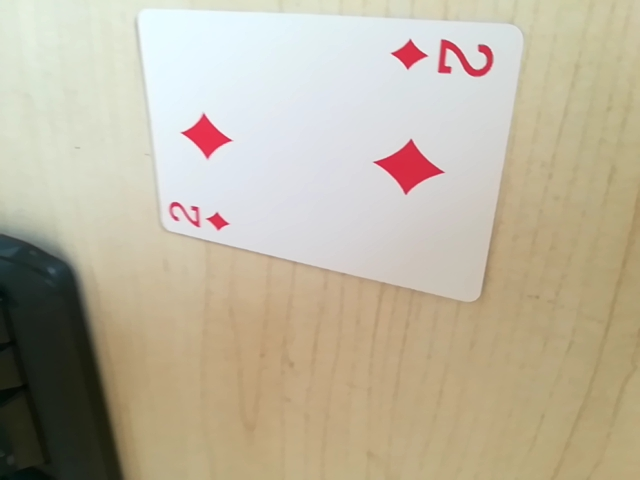fk 2: (389, 30, 501, 84), (163, 193, 238, 237)
